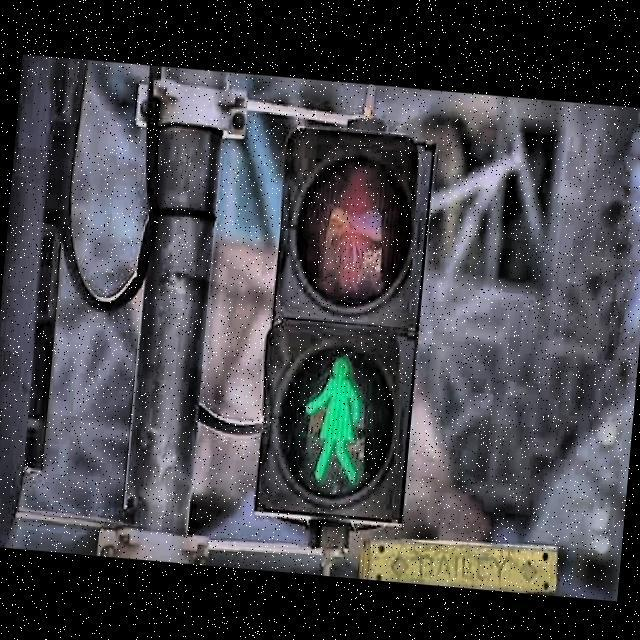green_light: (296, 350, 371, 486)
